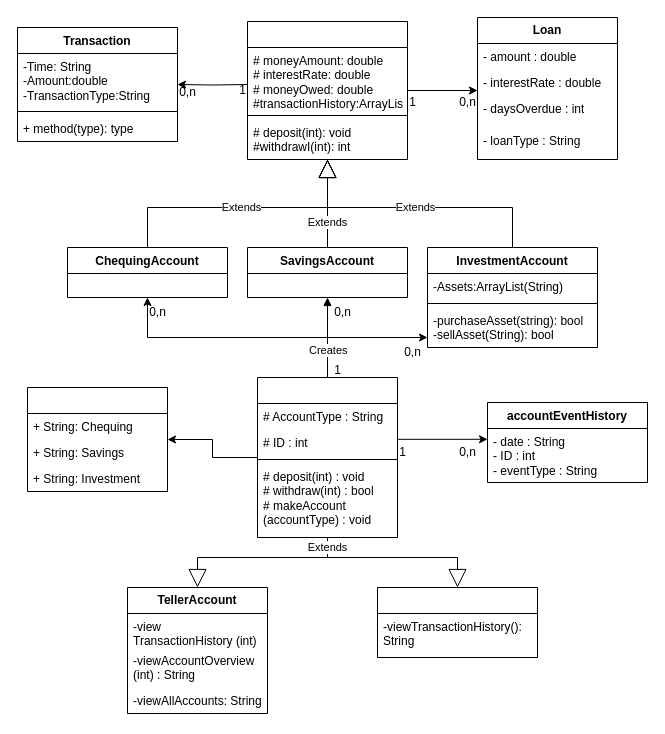
Image size: 665x734. Some labels were removed from this diagram. The shapes that lost their labels are listed below. From the top down, each one's box as (x1, y1, x2, y2) in pixels, then its label:
(246, 20, 408, 160): BankAccount {abstract}
(26, 386, 168, 492): <enum> accountType
(256, 376, 398, 538): UserAccount
(376, 586, 538, 658): customerAccount
